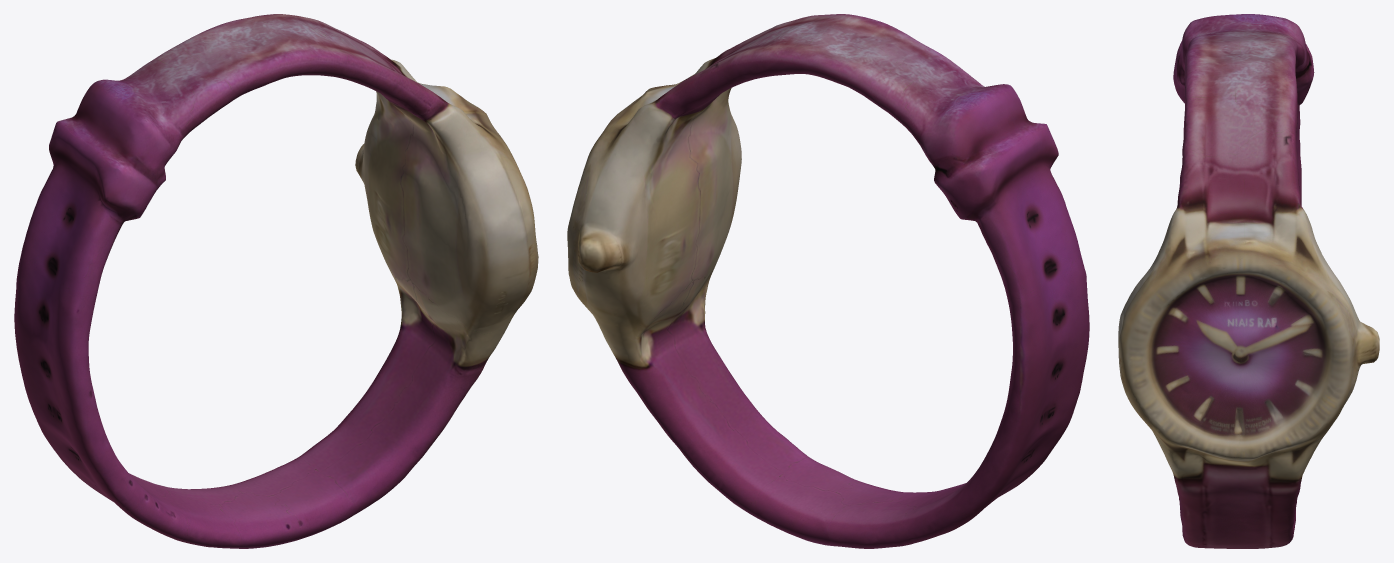
The model's file is watch1.2.glb.
The picture shows the model from 3 angles, left to right: view 1: azimuth 30°, elevation 25°; view 2: azimuth 150°, elevation 25°; view 3: azimuth 270°, elevation 25°; orthographic projection. The views are drawn at different scales.
Bounding box in the file's own units: 1.16 × 1.2 × 0.6011.
1 material, 1 textured.
